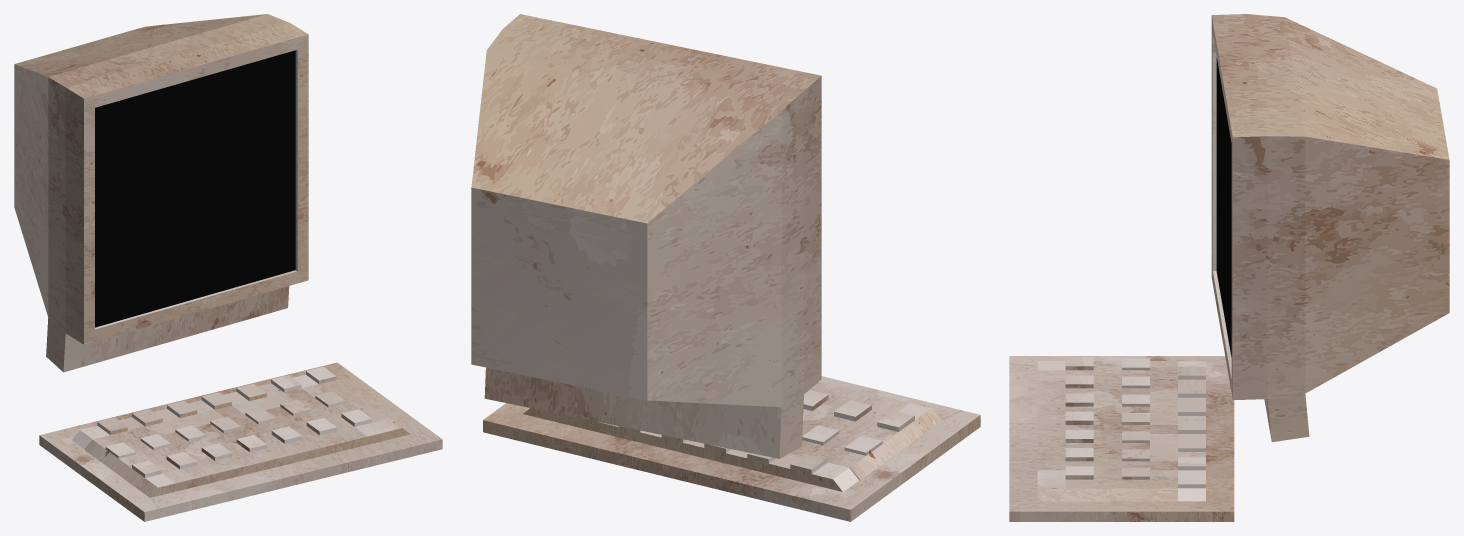
The model's file is PcRE1.fbx.
The picture shows the model from 3 angles, left to right: view 1: azimuth 30°, elevation 25°; view 2: azimuth 150°, elevation 25°; view 3: azimuth 270°, elevation 25°; orthographic projection. The views are drawn at different scales.
Visible parts, largest first — view 1: pCube2, pCube3; view 2: pCube2, pCube3; view 3: pCube2, pCube3.
Part boxes in pixels (<box>): pCube2: <box>14,14,308,372</box>; pCube3: <box>39,362,442,521</box>; pCube2: <box>471,14,821,458</box>; pCube3: <box>483,376,980,521</box>; pCube2: <box>1211,14,1449,441</box>; pCube3: <box>1009,356,1234,521</box>.
Size of the model in its own units: 0.5282 by 0.5851 by 0.6319.
Materials: 2 (1 with a texture image).
